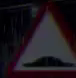Speed Breaker ahead: (12, 4, 75, 77)
